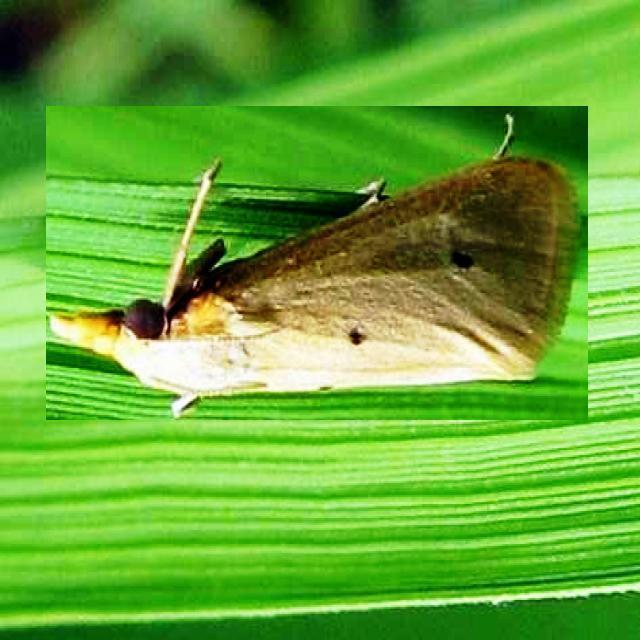stem-borer: (46, 106, 588, 420)
